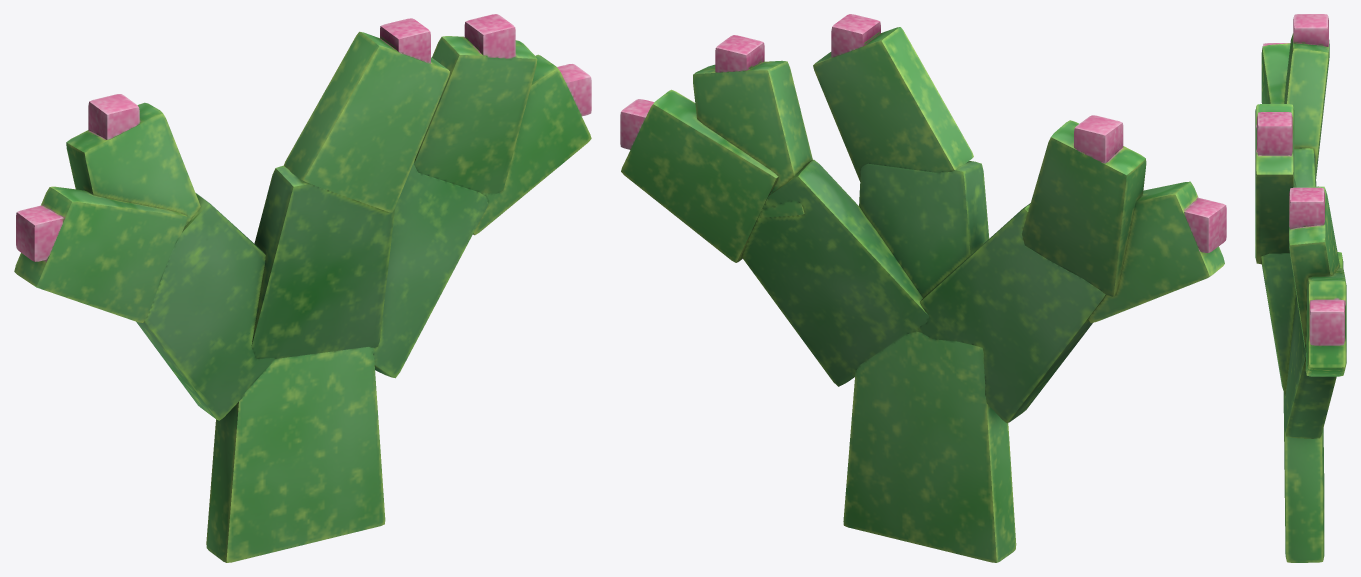
File: Desert_Figuier.fbx
The picture shows the model from 3 angles, left to right: view 1: azimuth 30°, elevation 25°; view 2: azimuth 150°, elevation 25°; view 3: azimuth 270°, elevation 25°; orthographic projection. The views are drawn at different scales.
Parts seen in each view (by area): view 1: Desert_Figuier; view 2: Desert_Figuier; view 3: Desert_Figuier.
Part boxes in pixels (left/top/right/bottom): Desert_Figuier: left=14, top=14, right=591, bottom=562; Desert_Figuier: left=620, top=14, right=1226, bottom=562; Desert_Figuier: left=1255, top=14, right=1346, bottom=562.
Size of the model in its own units: 943 by 769 by 141.
1 material, 1 textured.
